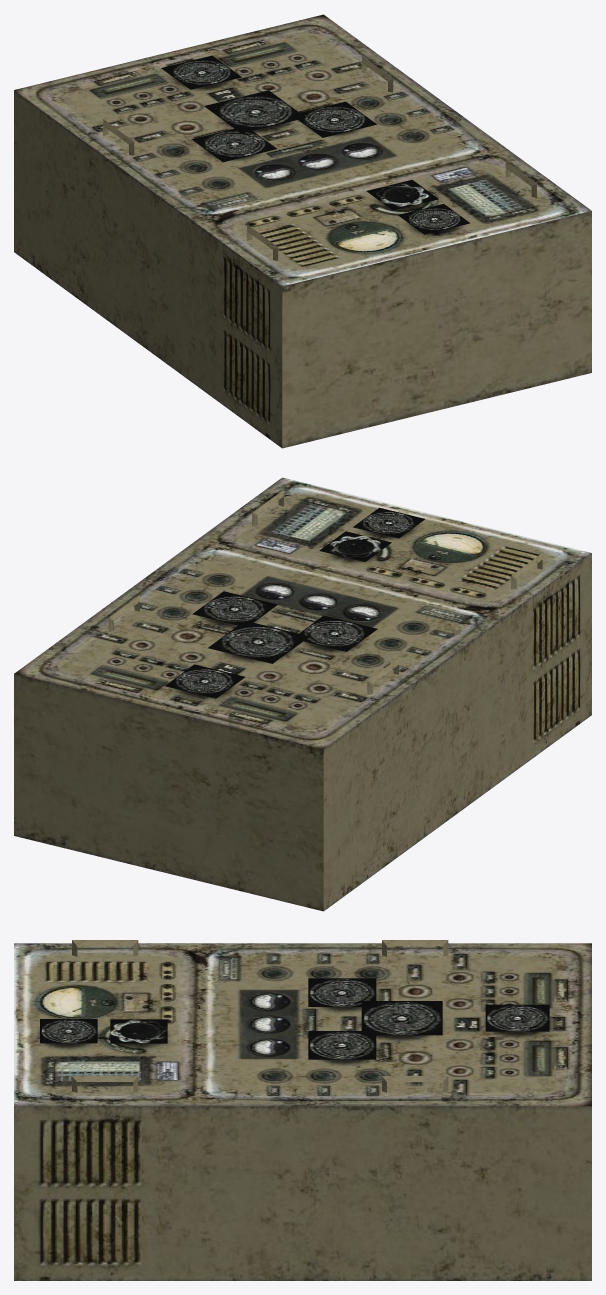
The model's file is military_german_radio2_tan_obj.glb.
The picture shows the model from 3 angles, top to bottom: view 1: azimuth 30°, elevation 25°; view 2: azimuth 150°, elevation 25°; view 3: azimuth 270°, elevation 25°; orthographic projection. The views are drawn at different scales.
Bounding box in the file's own units: 24.43 × 13.29 × 36.64.
3 materials, 3 textured.
